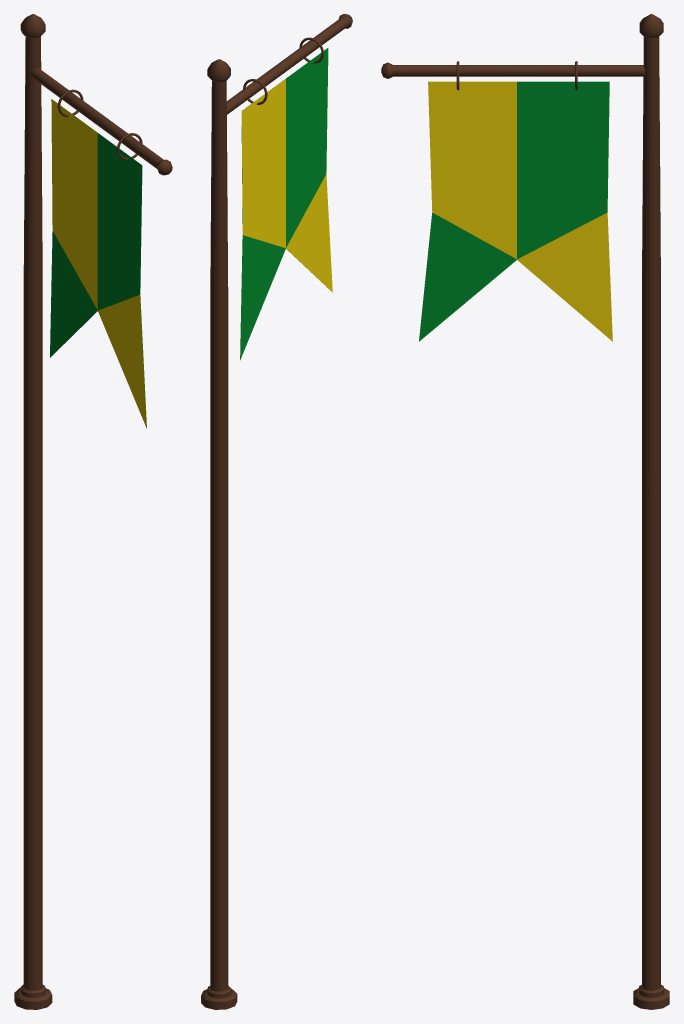
File: Flag_green_yellow.obj
3 renders of one model, left to right at view 1: azimuth 30°, elevation 25°; view 2: azimuth 150°, elevation 25°; view 3: azimuth 270°, elevation 25°, orthographic. The views are drawn at different scales.
Visible parts, largest first — view 1: Tube001, Box004, Box003, Box002, Tube002, ChamferCyl002, ChamferCyl003; view 2: Tube001, Box004, Box003, Box002, Tube002, ChamferCyl002, ChamferCyl003; view 3: Box004, Tube001, Box002, Box001, Tube002.
Part boxes in pixels (x1=…): Tube001: x1=23, y1=36, x2=42, y2=990; Box004: x1=51, y1=99, x2=146, y2=428; Box003: x1=50, y1=102, x2=142, y2=357; Box002: x1=50, y1=176, x2=142, y2=357; Tube002: x1=30, y1=68, x2=163, y2=168; ChamferCyl002: x1=14, y1=988, x2=52, y2=1009; ChamferCyl003: x1=20, y1=14, x2=45, y2=37; Tube001: x1=210, y1=80, x2=228, y2=991; Box004: x1=241, y1=79, x2=332, y2=292; Box003: x1=241, y1=48, x2=328, y2=247; Box002: x1=240, y1=235, x2=285, y2=360; Tube002: x1=226, y1=18, x2=347, y2=114; ChamferCyl002: x1=201, y1=989, x2=237, y2=1009; ChamferCyl003: x1=207, y1=59, x2=230, y2=82; Box004: x1=428, y1=81, x2=612, y2=341; Tube001: x1=642, y1=36, x2=660, y2=990; Box002: x1=517, y1=81, x2=609, y2=259; Box001: x1=419, y1=212, x2=516, y2=341; Tube002: x1=392, y1=65, x2=645, y2=76.
Size of the model in its own units: 2.58 by 73.53 by 19.44.
